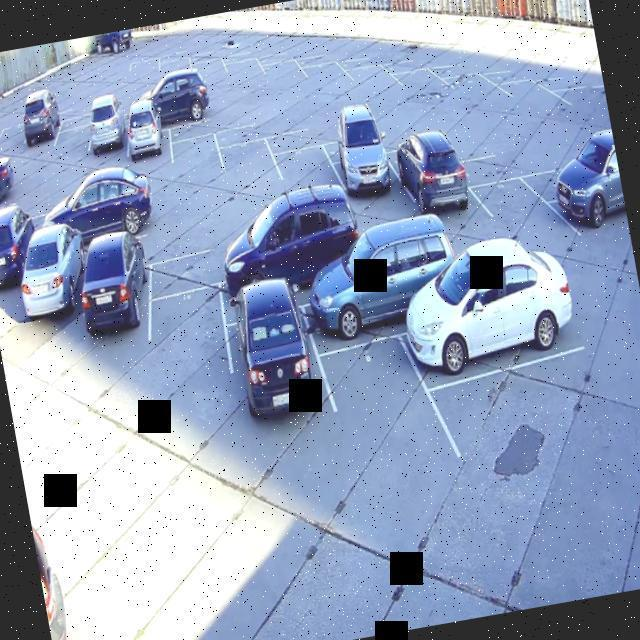car: (403, 247, 584, 376), (220, 274, 328, 446), (300, 236, 448, 353), (210, 202, 358, 319), (7, 221, 102, 335), (72, 248, 160, 366), (326, 103, 414, 218), (395, 131, 472, 231), (558, 160, 632, 254), (44, 175, 149, 240), (120, 72, 207, 138), (118, 100, 178, 192), (0, 210, 53, 305), (84, 94, 132, 172), (18, 90, 62, 168), (0, 145, 16, 208)
free: (422, 330, 630, 482), (306, 299, 460, 497), (132, 278, 240, 415), (147, 232, 271, 308), (470, 172, 551, 268), (378, 108, 473, 176), (455, 129, 547, 193), (118, 210, 208, 268), (316, 106, 400, 164), (264, 106, 344, 165), (271, 139, 342, 204), (162, 95, 245, 146), (214, 131, 278, 196), (166, 129, 226, 197), (216, 100, 296, 148), (376, 34, 456, 80), (446, 67, 506, 126), (528, 140, 580, 204), (481, 54, 554, 96), (498, 75, 558, 125), (537, 56, 604, 100), (338, 36, 411, 76), (292, 30, 361, 70), (294, 55, 354, 101), (255, 52, 308, 104), (388, 65, 452, 108), (428, 44, 496, 82), (50, 108, 96, 158), (561, 84, 610, 127), (217, 51, 264, 95), (347, 60, 398, 99), (0, 188, 34, 241), (124, 52, 164, 94), (0, 118, 35, 165), (186, 54, 226, 86), (157, 54, 194, 87)
